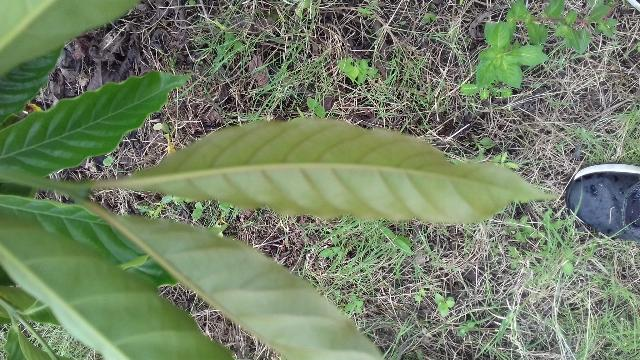healthy: (98, 115, 575, 229)
